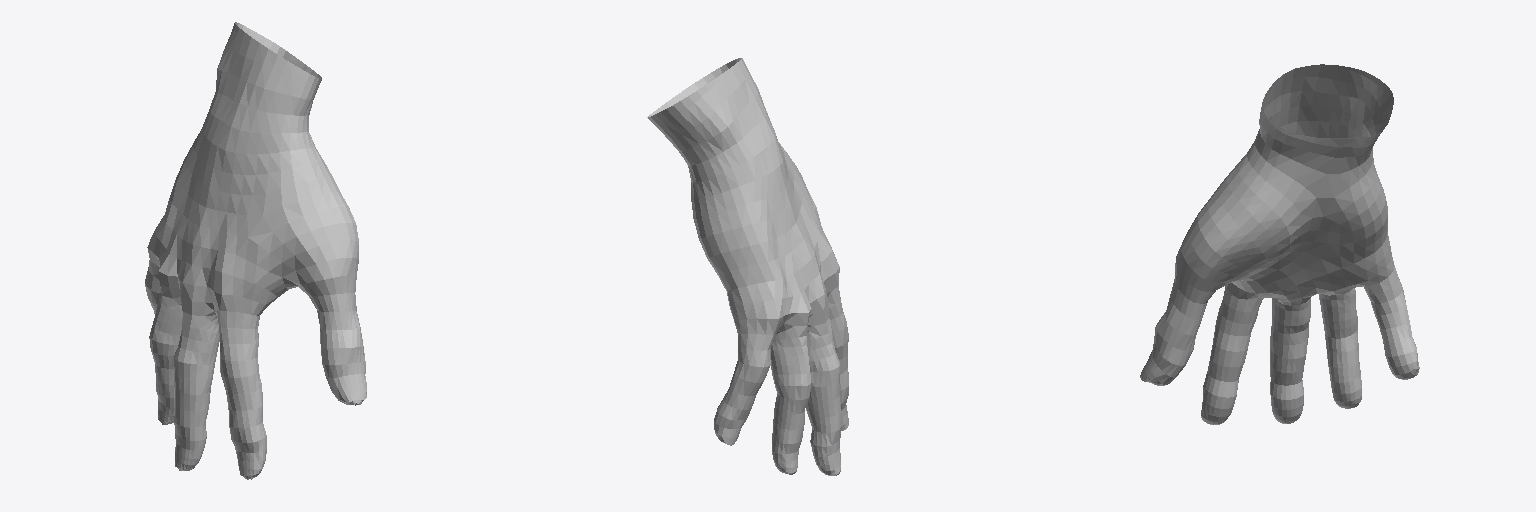
File: palmaD.obj
The picture shows the model from 3 angles: view 1: azimuth 30°, elevation 25°; view 2: azimuth 150°, elevation 25°; view 3: azimuth 270°, elevation 25°; orthographic projection.
Parts seen in each view (by area): view 1: palmaD; view 2: palmaD; view 3: palmaD.
Boxes of the visible parts, box(x1,y1,x2,y2) form: palmaD: box(145, 22, 366, 479); palmaD: box(647, 58, 848, 475); palmaD: box(1140, 64, 1419, 424).
Size of the model in its own units: 1.15 by 2.9 by 1.84.